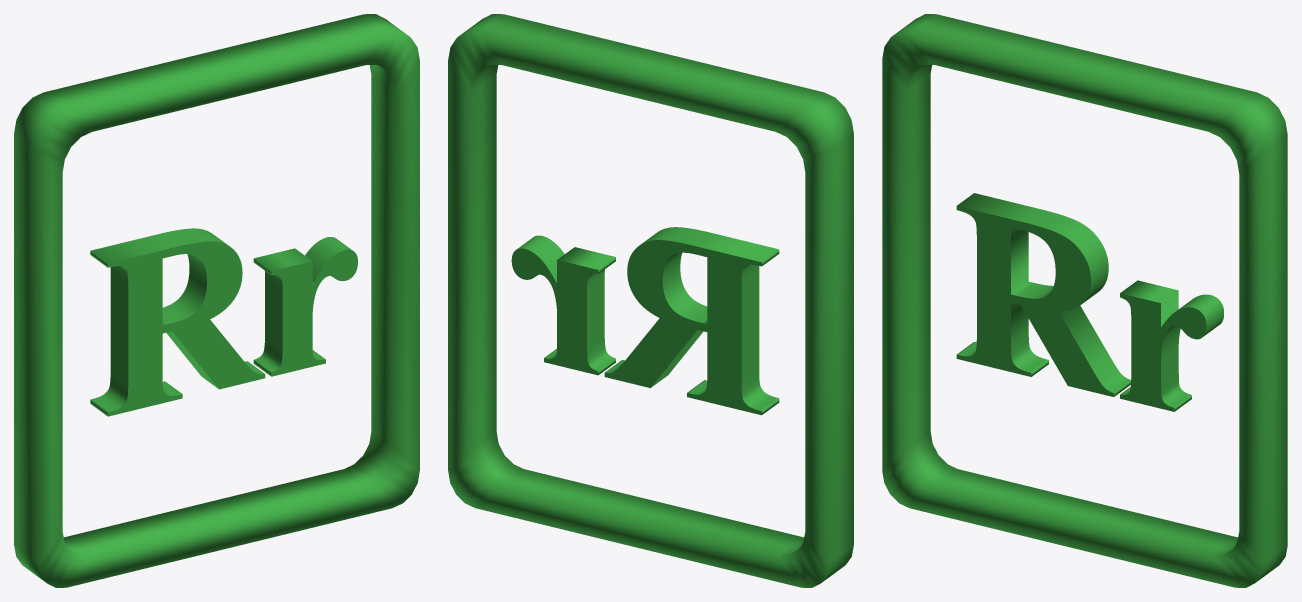
The model's file is Letter_R.gltf.
The picture shows the model from 3 angles, left to right: view 1: azimuth 30°, elevation 25°; view 2: azimuth 150°, elevation 25°; view 3: azimuth 330°, elevation 25°; orthographic projection.
Visible parts, largest first — view 1: Letters.019; view 2: Letters.019; view 3: Letters.019.
Part boxes in pixels (bbox=[...]): Letters.019: bbox=[14, 14, 419, 587]; Letters.019: bbox=[448, 14, 853, 587]; Letters.019: bbox=[882, 14, 1287, 587].
Size of the model in its own units: 1.25 by 1.49 by 0.1418.
